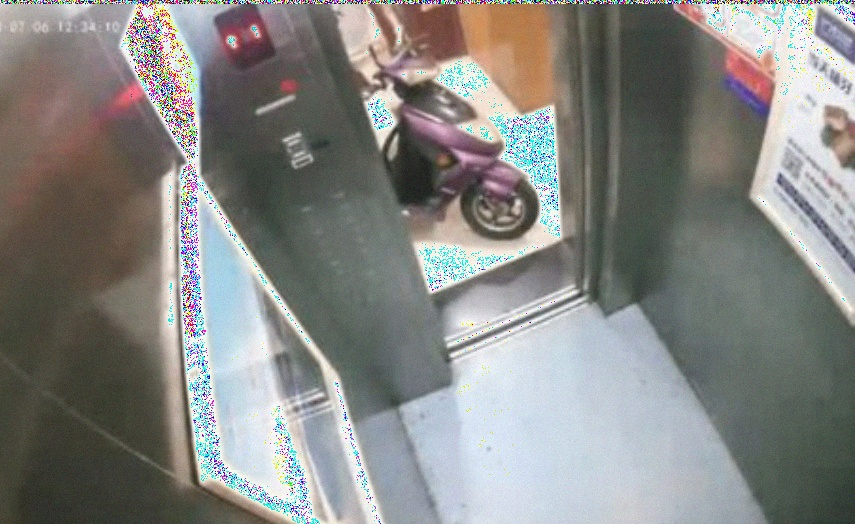ebike: (366, 31, 540, 237)
